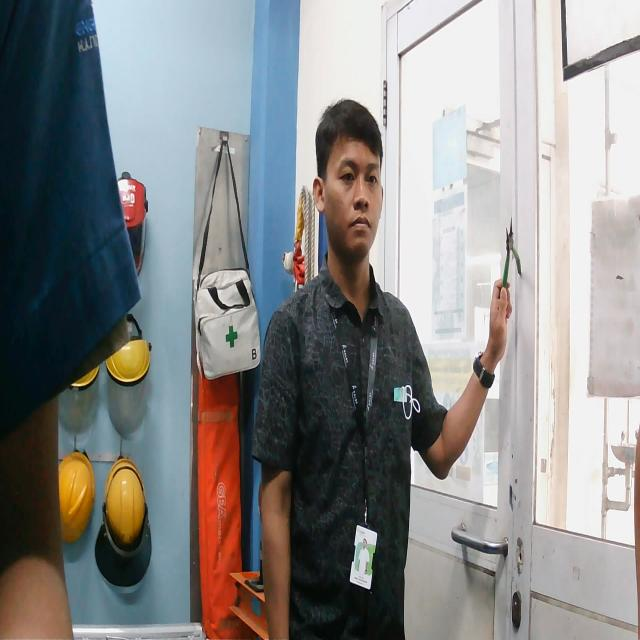tang_scun_hidrolik: (494, 219, 528, 296)
